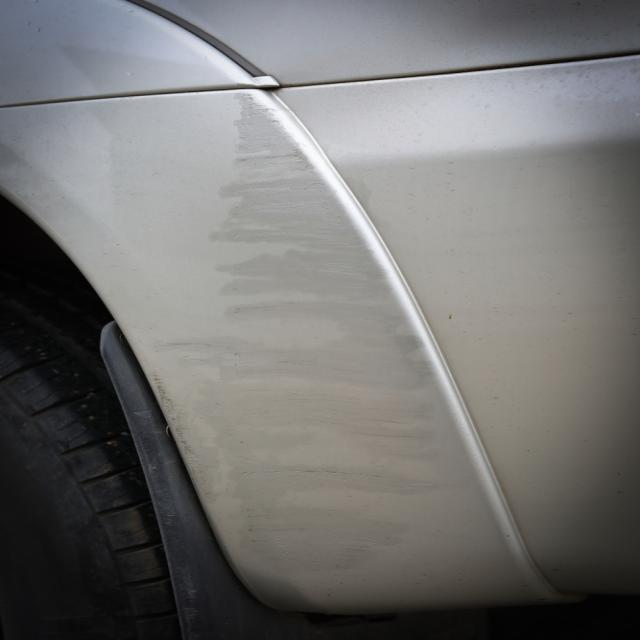scratch: (141, 90, 436, 571)
